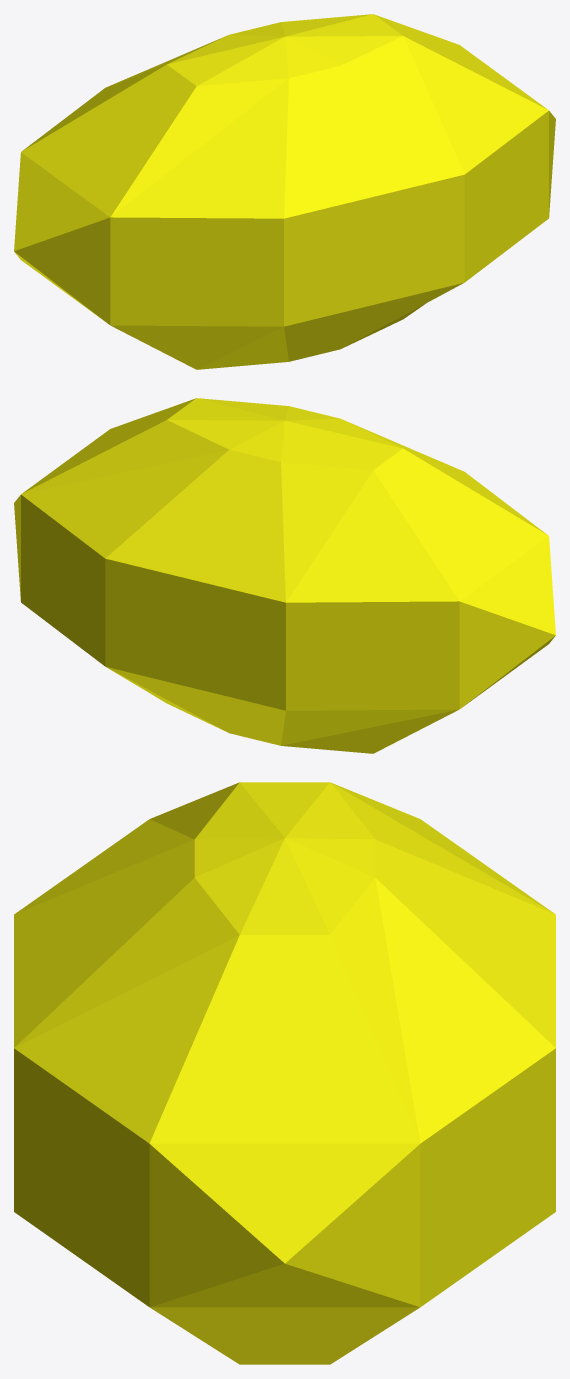
The picture shows the model from 3 angles, top to bottom: view 1: azimuth 30°, elevation 25°; view 2: azimuth 150°, elevation 25°; view 3: azimuth 270°, elevation 25°; orthographic projection. The views are drawn at different scales.
Visible parts, largest first — view 1: 2501; view 2: 2501; view 3: 2501.
Part boxes in pixels (x1,y1,x2,y2): 2501: (14, 14, 555, 369); 2501: (14, 398, 555, 753); 2501: (14, 782, 555, 1364).
Bounding box in the file's own units: 42 × 22 × 24.
